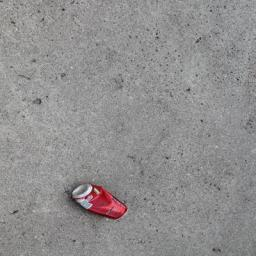FOD: (70, 182, 133, 227)
